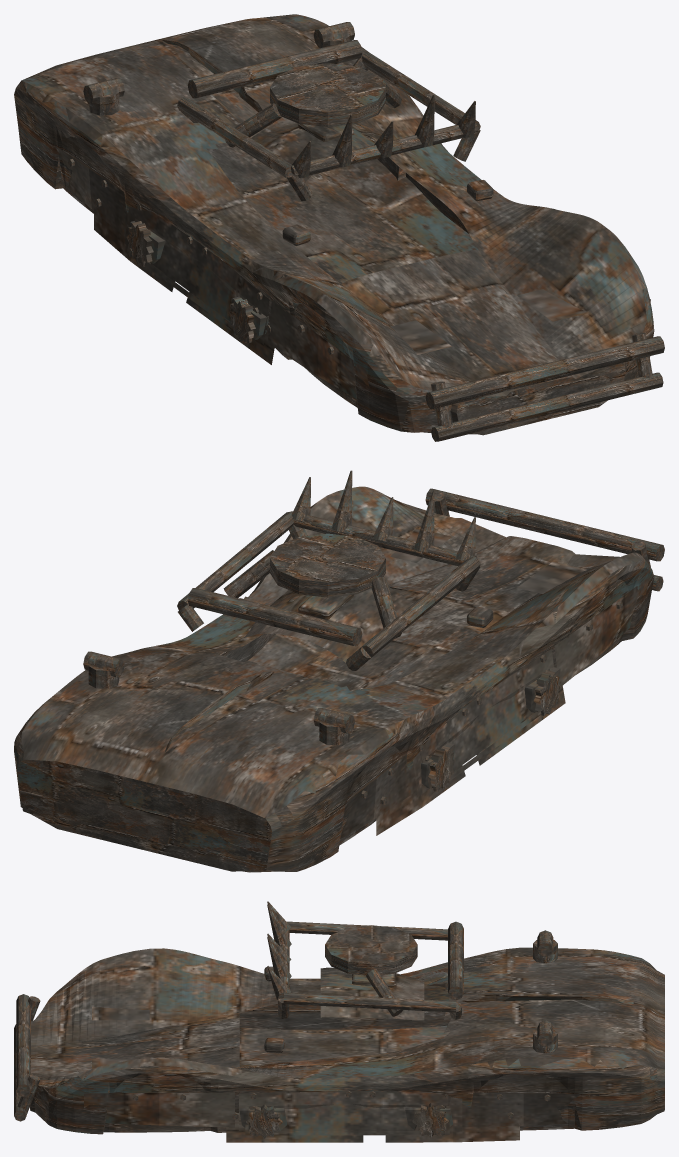
The model's file is bugatti_bolide.glb.
The picture shows the model from 3 angles, top to bottom: view 1: azimuth 30°, elevation 25°; view 2: azimuth 150°, elevation 25°; view 3: azimuth 270°, elevation 25°; orthographic projection. The views are drawn at different scales.
Parts seen in each view (by area): view 1: kit-full-plating-painted-metal, kit-bull-bar-painted-metal, kit-turret-mount-painted-metal, kit-cage-painted-metal, kit-scrapper-painted-metal, kit-plate-2-painted-metal, warlord-crossbar, kit-crown-painted-metal, kit-plate-3-painted-metal, kit-raider-painted-metal, kit-stack-0-painted-metal, kit-saw-1-guard-painted-metal (+2 smaller); view 2: kit-full-plating-painted-metal, kit-turret-mount-painted-metal, kit-cage-painted-metal, kit-scrapper-painted-metal, kit-bull-bar-painted-metal, warlord-crossbar, kit-plate-2-painted-metal, kit-crown-painted-metal, kit-plate-3-painted-metal, kit-raider-painted-metal, kit-saw-1-guard-painted-metal, kit-stack-1-painted-metal (+2 smaller); view 3: kit-full-plating-painted-metal, kit-scrapper-painted-metal, kit-plate-0-painted-metal, kit-turret-mount-painted-metal, kit-cage-painted-metal, kit-plate-1-painted-metal, kit-raider-painted-metal, kit-bull-bar-painted-metal, kit-crown-painted-metal, warlord-crossbar, kit-saw-1-painted-metal, kit-saw-0-painted-metal (+2 smaller).
Part boxes in pixels (x1=…): kit-full-plating-painted-metal: x1=14, y1=14, x2=654, y2=435; kit-bull-bar-painted-metal: x1=425, y1=332, x2=664, y2=441; kit-turret-mount-painted-metal: x1=225, y1=63, x2=401, y2=147; kit-cage-painted-metal: x1=177, y1=52, x2=480, y2=200; kit-scrapper-painted-metal: x1=124, y1=203, x2=269, y2=345; kit-plate-2-painted-metal: x1=267, y1=300, x2=369, y2=398; warlord-crossbar: x1=187, y1=40, x2=362, y2=98; kit-crown-painted-metal: x1=292, y1=94, x2=475, y2=178; kit-plate-3-painted-metal: x1=39, y1=135, x2=138, y2=236; kit-raider-painted-metal: x1=94, y1=198, x2=274, y2=364; kit-stack-0-painted-metal: x1=83, y1=78, x2=124, y2=115; kit-saw-1-guard-painted-metal: x1=228, y1=296, x2=268, y2=342; kit-full-plating-painted-metal: x1=14, y1=486, x2=654, y2=872; kit-turret-mount-painted-metal: x1=223, y1=533, x2=401, y2=638; kit-cage-painted-metal: x1=177, y1=511, x2=480, y2=670; kit-scrapper-painted-metal: x1=413, y1=649, x2=553, y2=796; kit-bull-bar-painted-metal: x1=425, y1=488, x2=664, y2=591; warlord-crossbar: x1=187, y1=588, x2=362, y2=646; kit-plate-2-painted-metal: x1=554, y1=577, x2=649, y2=686; kit-crown-painted-metal: x1=291, y1=470, x2=475, y2=560; kit-plate-3-painted-metal: x1=331, y1=751, x2=421, y2=838; kit-raider-painted-metal: x1=376, y1=686, x2=565, y2=835; kit-saw-1-guard-painted-metal: x1=524, y1=667, x2=560, y2=715; kit-stack-1-painted-metal: x1=83, y1=651, x2=124, y2=688; kit-full-plating-painted-metal: x1=30, y1=947, x2=664, y2=1136; kit-scrapper-painted-metal: x1=239, y1=983, x2=462, y2=1131; kit-plate-0-painted-metal: x1=84, y1=1092, x2=234, y2=1127; kit-turret-mount-painted-metal: x1=325, y1=925, x2=417, y2=1016; kit-cage-painted-metal: x1=277, y1=921, x2=461, y2=1019; kit-plate-1-painted-metal: x1=448, y1=1092, x2=599, y2=1126; kit-raider-painted-metal: x1=226, y1=1112, x2=519, y2=1142; kit-bull-bar-painted-metal: x1=14, y1=994, x2=40, y2=1121; kit-crown-painted-metal: x1=267, y1=901, x2=291, y2=999; warlord-crossbar: x1=448, y1=921, x2=463, y2=999; kit-saw-1-painted-metal: x1=239, y1=1104, x2=286, y2=1138; kit-saw-0-painted-metal: x1=405, y1=1103, x2=452, y2=1138.
Size of the model in its own units: 2.16 by 1.4 by 4.91.
Materials: 1 (1 with a texture image).
